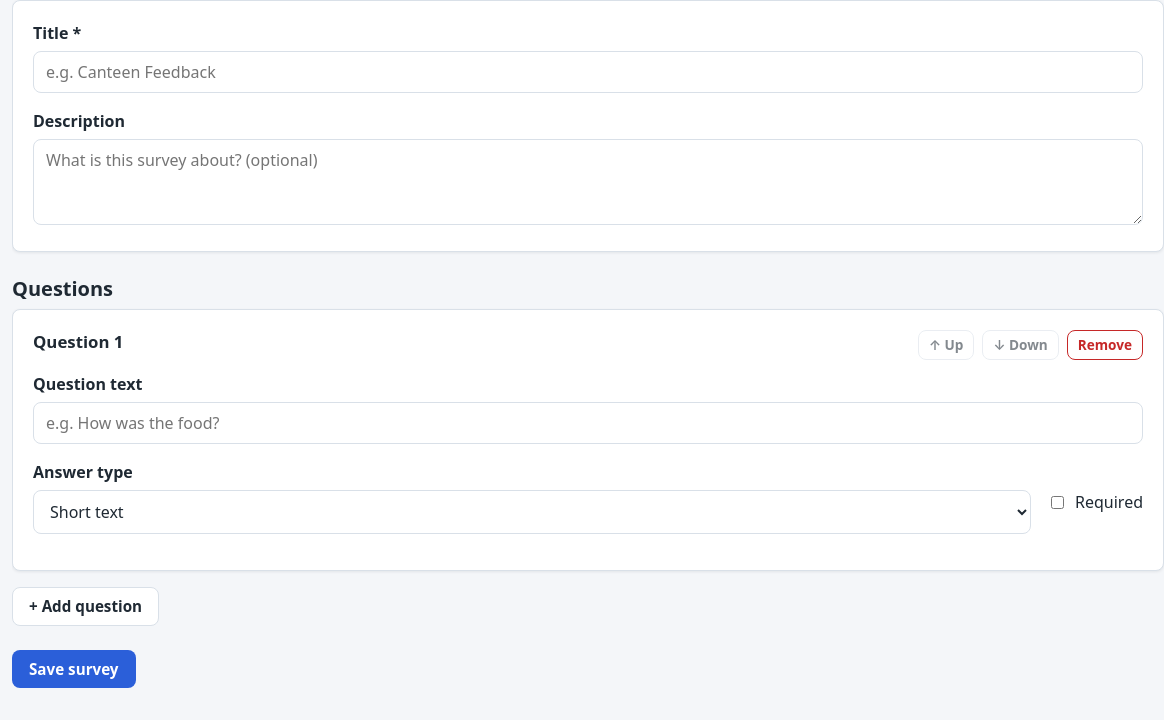
Test: SurveyForm › shows server field errors under the matching field
Type "Canteen Feedback" into the field labelled "Title *" at (588, 72), box top-left (33, 51), bottom-right (1143, 93)
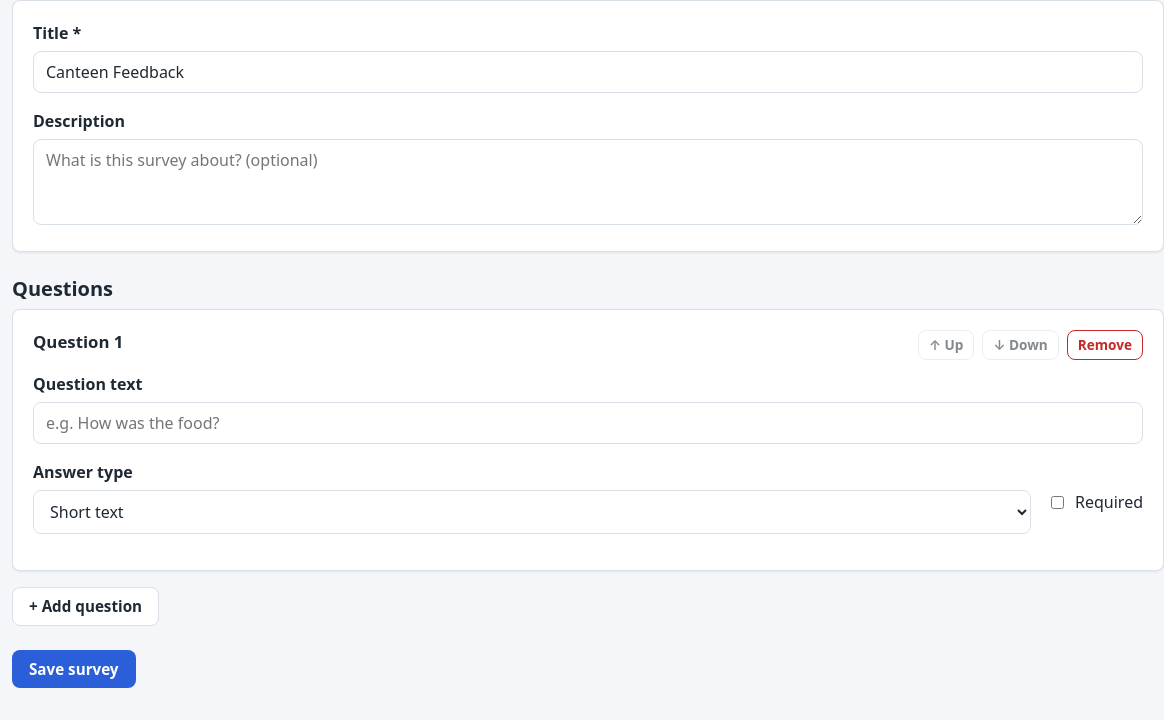
Type "Your name" into the field labelled "Question text" at (588, 423), box top-left (33, 402), bottom-right (1143, 444)
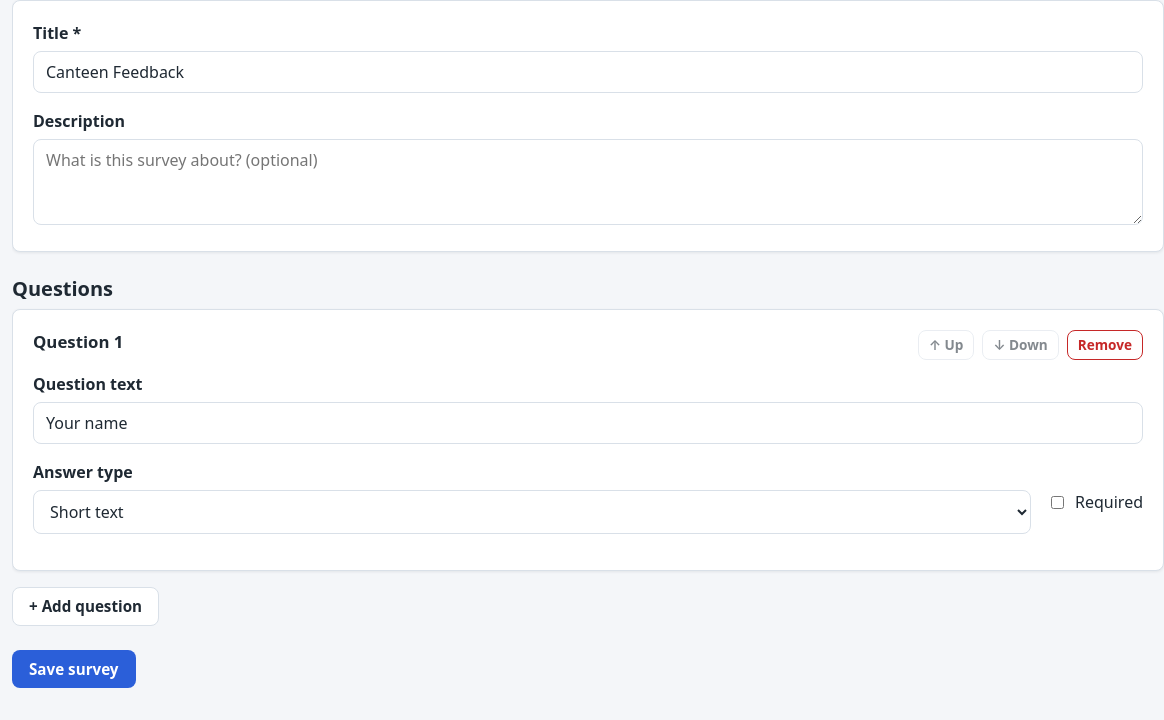
Click the button "Save survey" at (74, 669), box top-left (12, 650), bottom-right (136, 688)
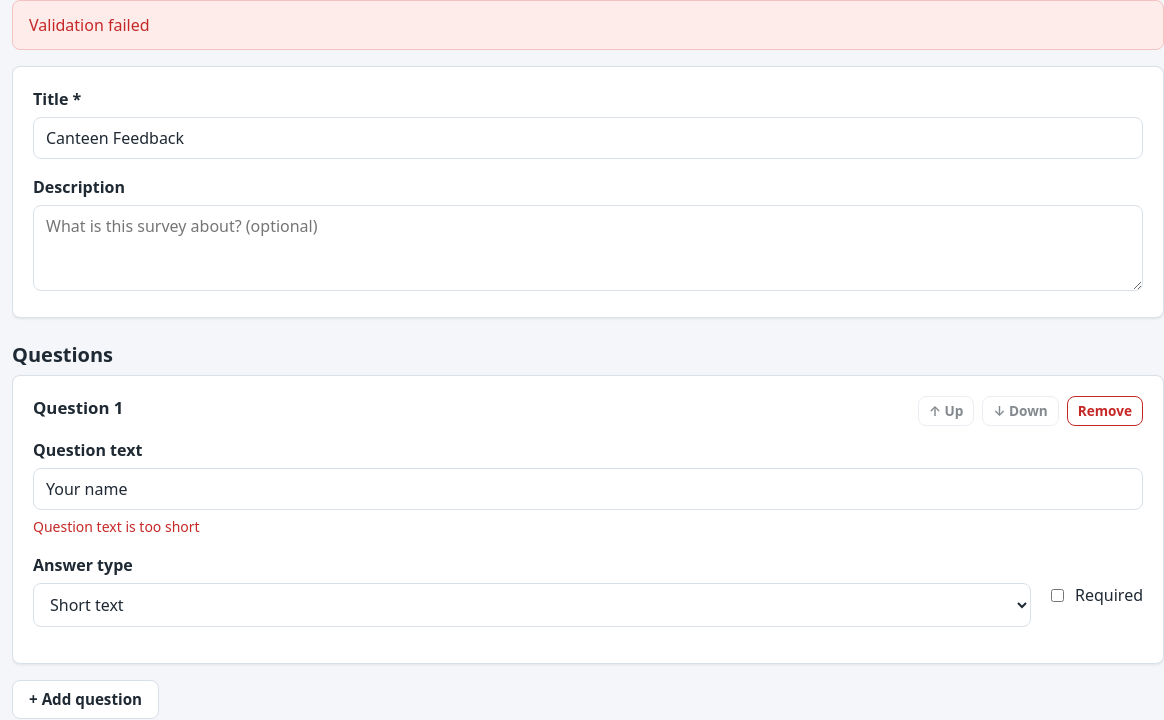
Check: the text "Question text is too short" is shown, box top-left (33, 517), bottom-right (200, 536)
Check: the text "Validation failed" is shown, box top-left (29, 13), bottom-right (150, 37)
